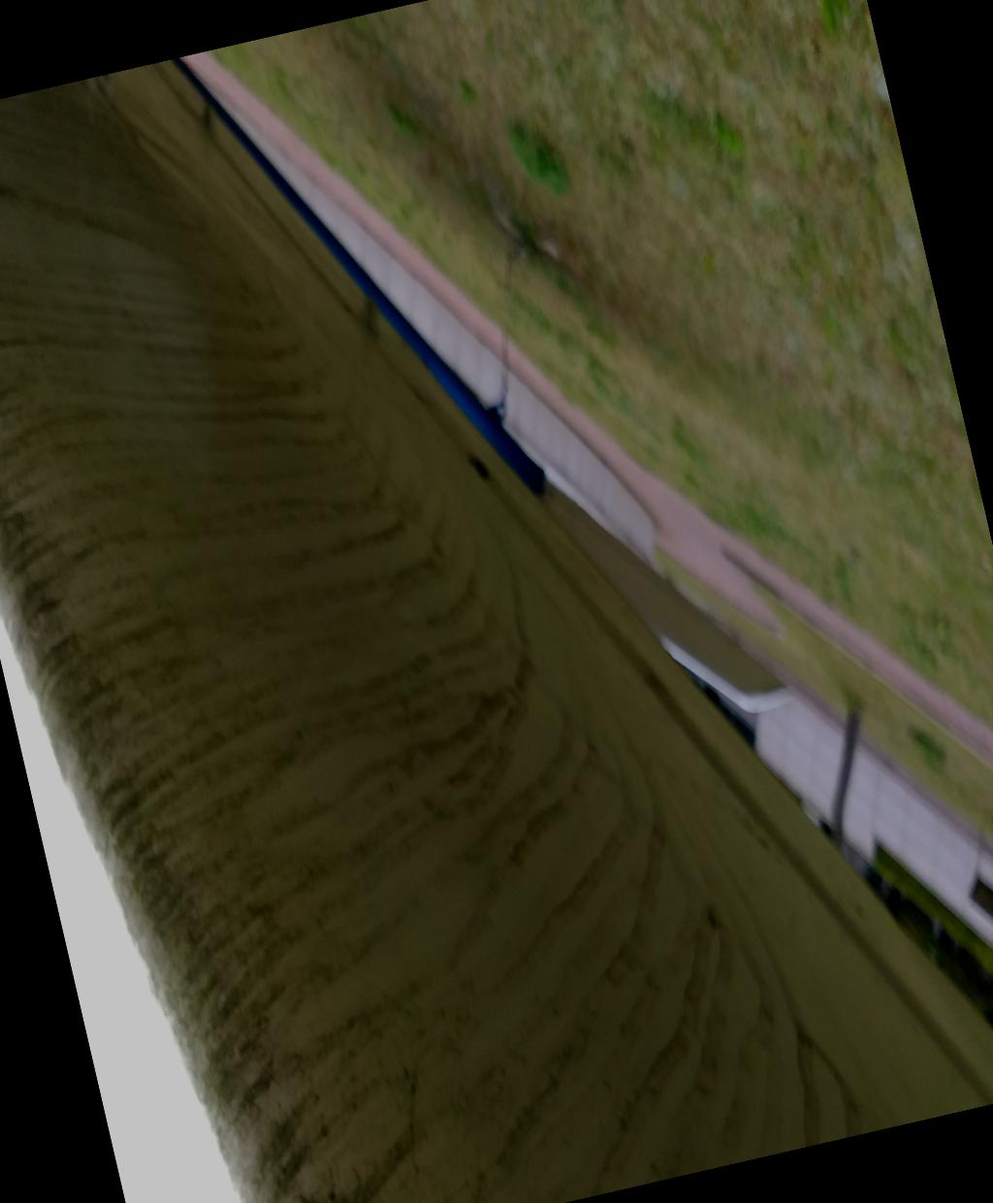corrosion: (330, 44, 442, 179)
